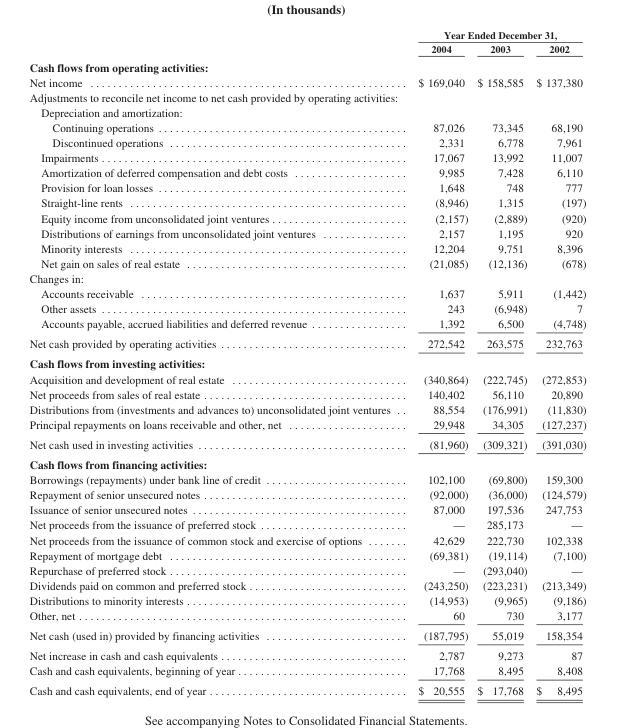table: (28, 28, 585, 696)
table column: (28, 28, 403, 696), (403, 28, 472, 696), (472, 28, 531, 696), (531, 28, 585, 696)
table column header: (28, 28, 585, 57)
table projected row header: (28, 353, 585, 371), (28, 453, 585, 471), (28, 57, 585, 74), (28, 89, 585, 104), (28, 104, 585, 119), (28, 270, 585, 285)
table row: (28, 333, 585, 353), (28, 625, 585, 645), (28, 434, 585, 453), (28, 315, 585, 333), (28, 353, 585, 371), (28, 416, 585, 434), (28, 453, 585, 471), (28, 607, 585, 625), (28, 662, 585, 680), (28, 57, 585, 74), (28, 645, 585, 662), (28, 41, 585, 57), (28, 179, 585, 195), (28, 501, 585, 517), (28, 680, 585, 696), (28, 74, 585, 89), (28, 89, 585, 104), (28, 104, 585, 119), (28, 119, 585, 134), (28, 134, 585, 149), (28, 149, 585, 164), (28, 164, 585, 179), (28, 195, 585, 210), (28, 210, 585, 225), (28, 225, 585, 240), (28, 240, 585, 255), (28, 255, 585, 270), (28, 270, 585, 285), (28, 285, 585, 300), (28, 300, 585, 315), (28, 371, 585, 386), (28, 386, 585, 401), (28, 401, 585, 416), (28, 471, 585, 486), (28, 486, 585, 501), (28, 517, 585, 532), (28, 532, 585, 547), (28, 547, 585, 562), (28, 562, 585, 577), (28, 577, 585, 592), (28, 592, 585, 607), (28, 28, 585, 41)
table spanning cell: (403, 28, 585, 41)
